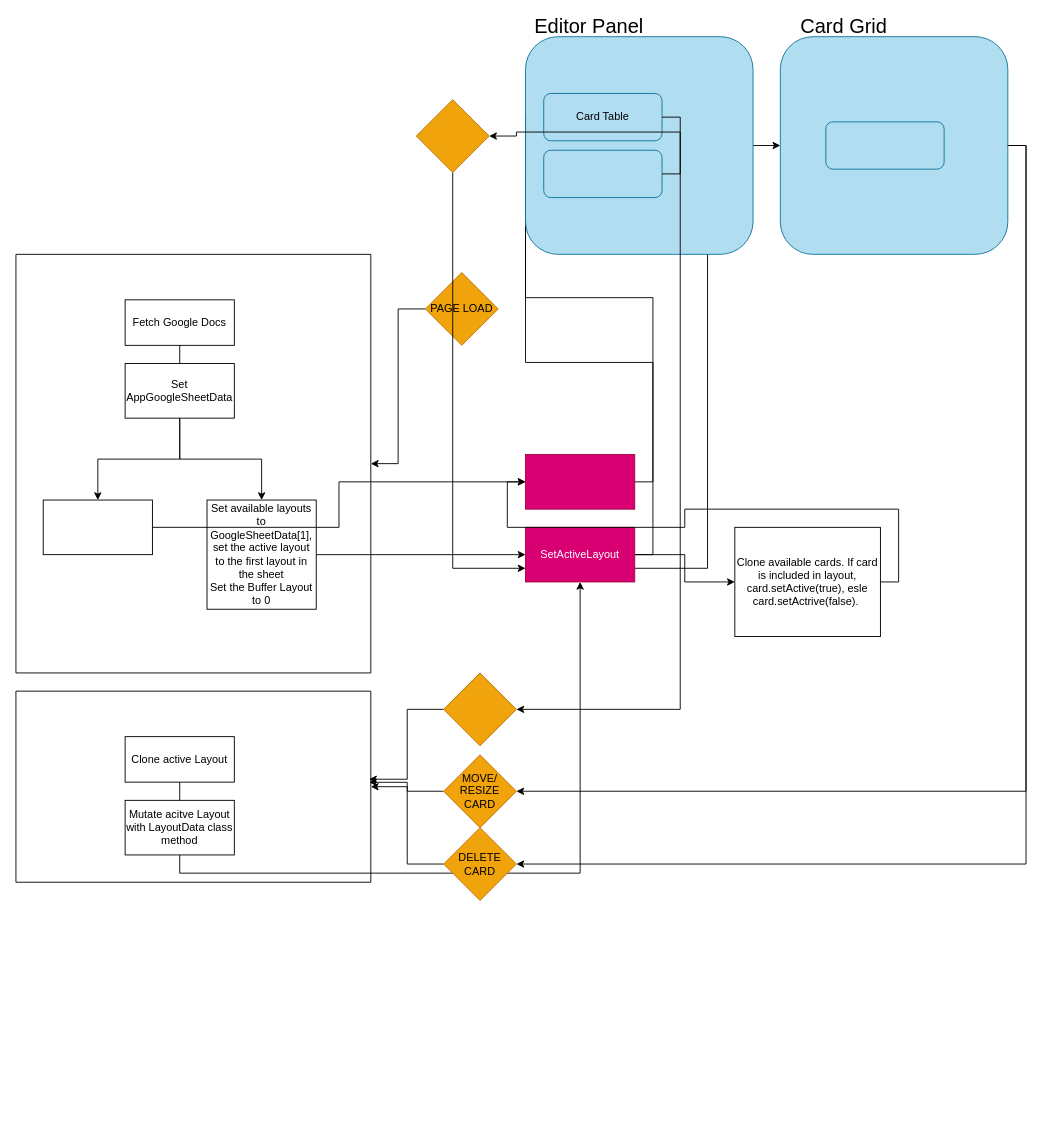
The diagram is 1049 pixels wide and 1126 high, and some of its shapes have lost their labels. Here are the shapes that lost their labels. From the top down, the centre of each, then its label:
At point (452, 135): "DND LAYOUT".
At point (884, 145): "Cards".
At point (602, 173): "Layout Table".
At point (580, 481): "SetAvailableCards".
At point (97, 527): "Set available card rows array to GoogleSheetData[0]".
At point (479, 709): "ADD CARD".
